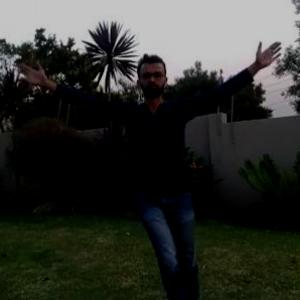takeoff: (17, 45, 282, 288)
